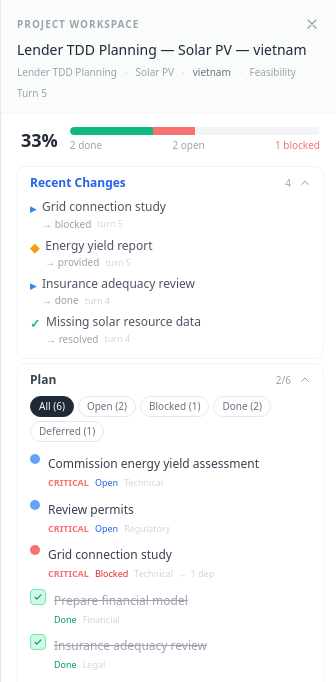
ProjectWorkspace — full plan view › filters plan by status
Note: Click "Done" filter
Click the button with test id "plan-filter-done" at (242, 407), box [213,396,271,417]
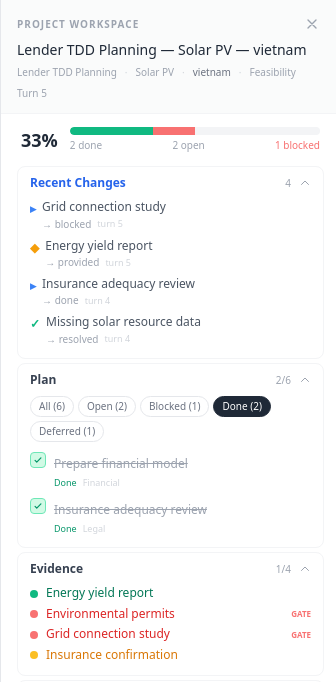
Expected: the number of elements with test id "plan-item" is 2, [30,452,188,489]; [30,498,207,535]
